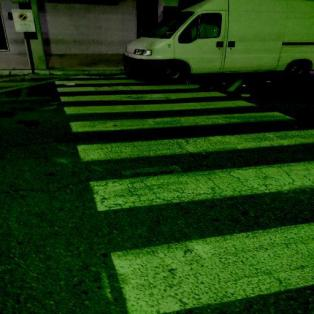Paso de Cebra: (60, 99, 299, 137)
